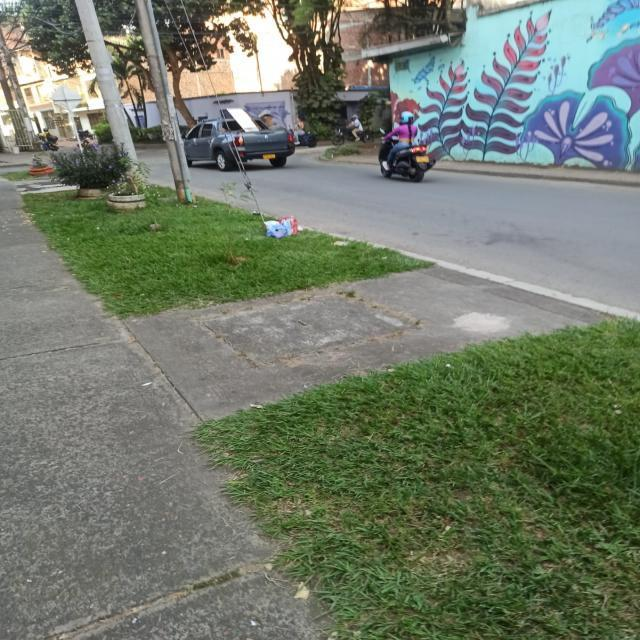Garbage_Bag: (264, 220, 292, 238), (280, 216, 300, 234)
